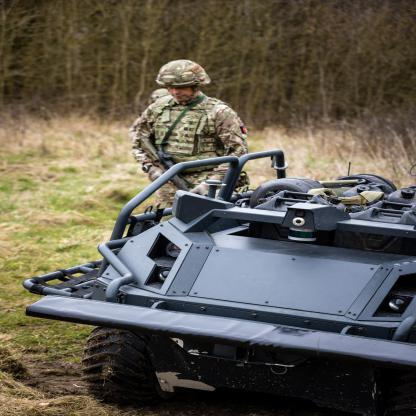Person: (131, 58, 251, 155)
UGV: (22, 151, 415, 415)
